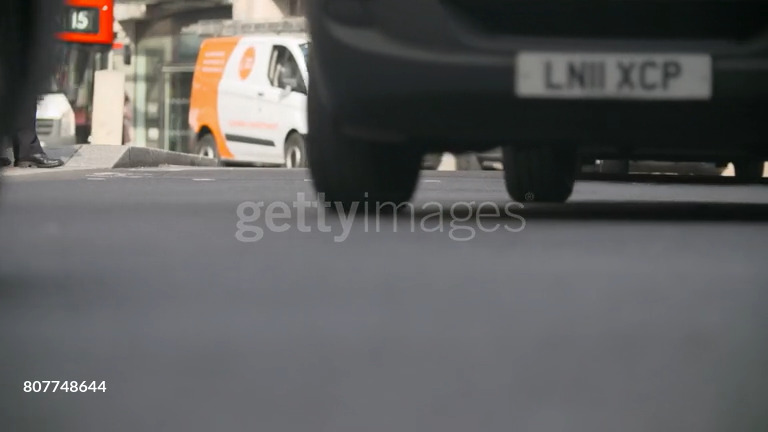car number: (512, 50, 712, 98)
